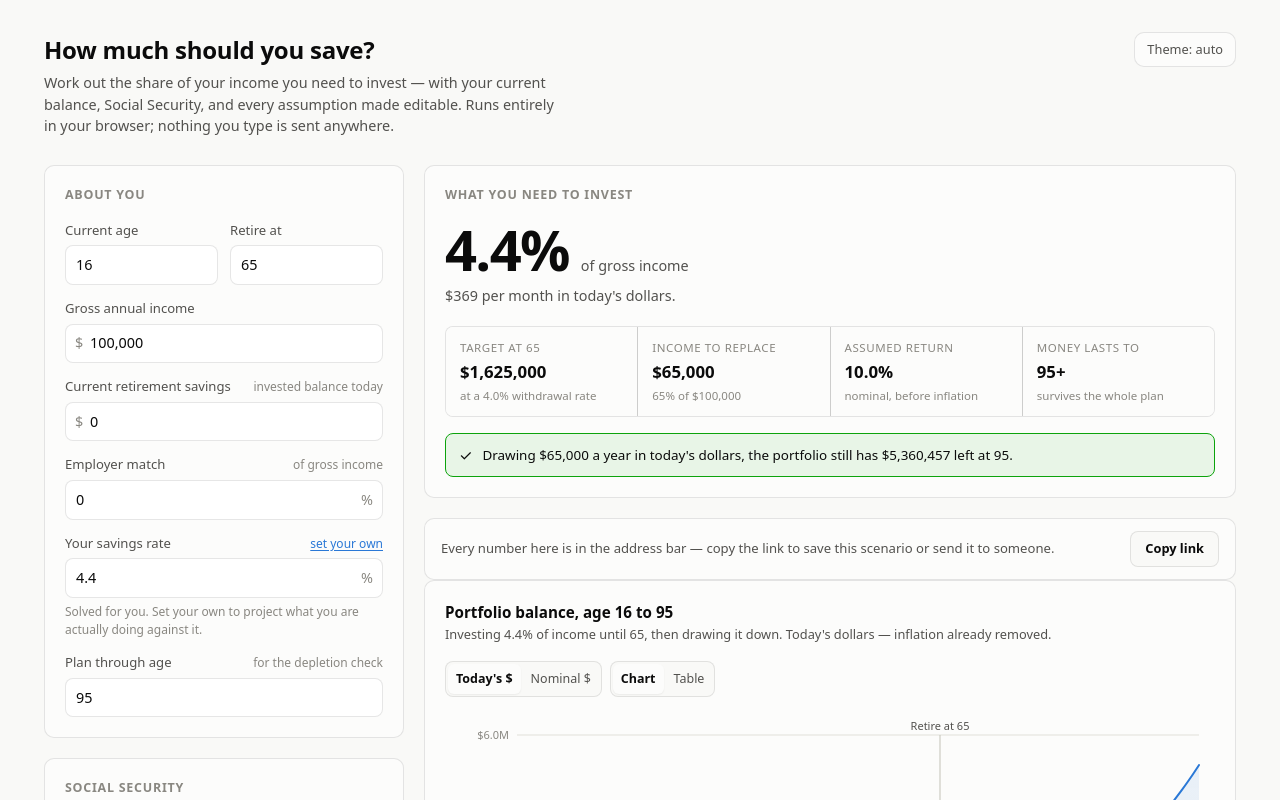
Test: typing into numeric fields › types a dollar amount with more digits than the default
Replace the text in the field labelled "Current retirement savings invested balance today" with "250000" at (224,422), box top-left (65, 402), bottom-right (383, 441)
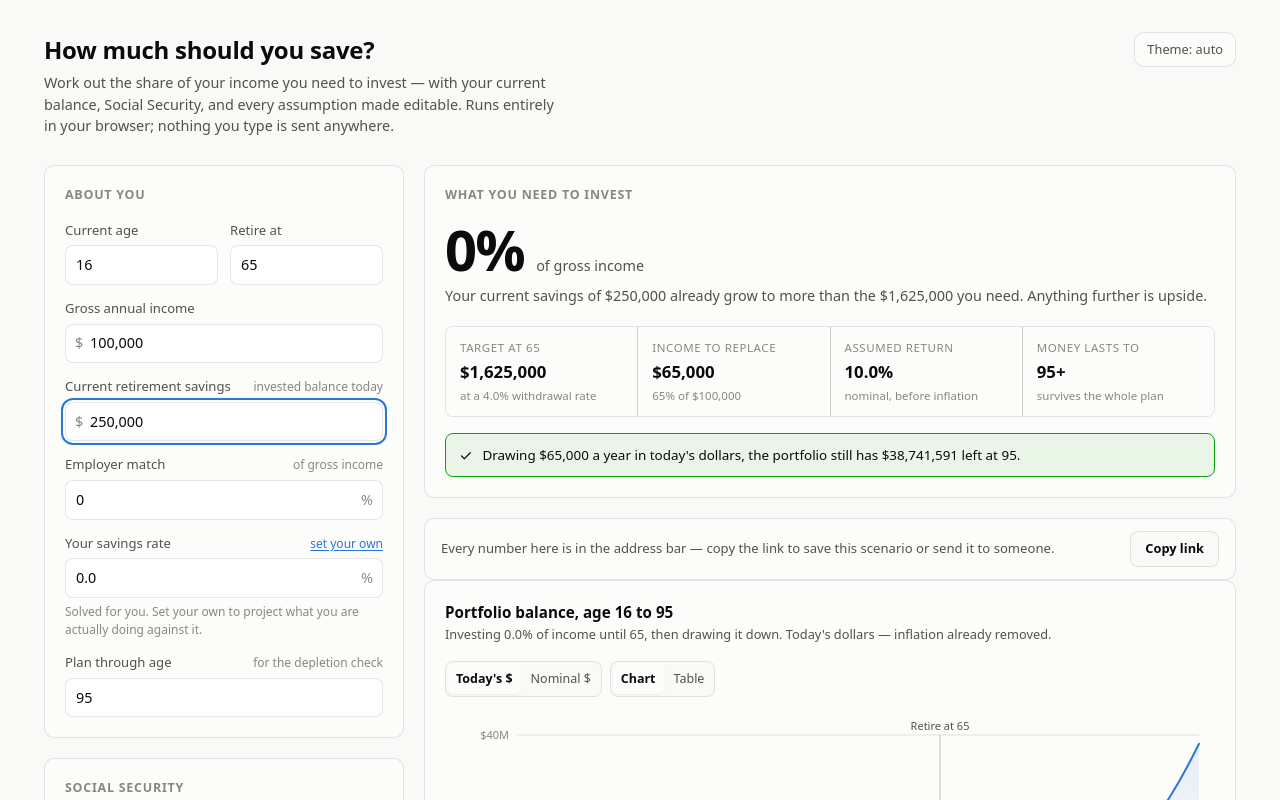
Now the field labelled "Current retirement savings invested balance today" holds "250,000", box top-left (65, 402), bottom-right (383, 441)
